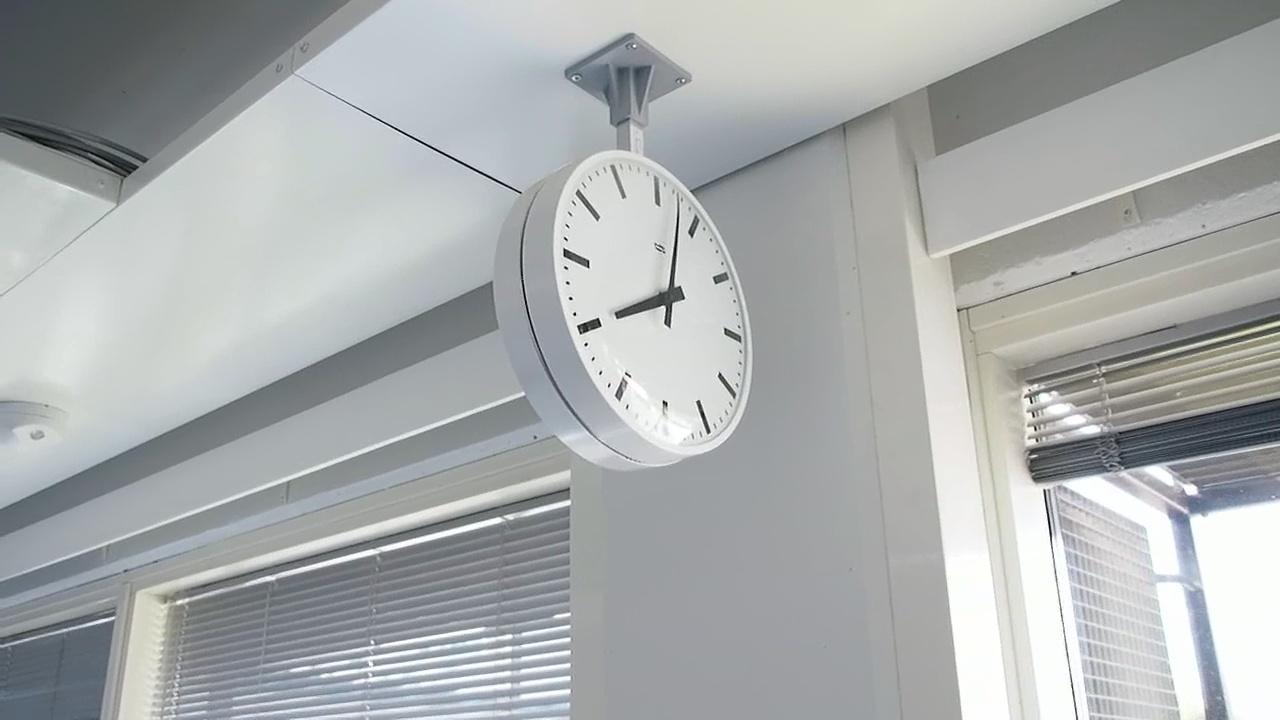clock: (484, 144, 772, 474)
